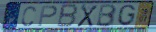B: (55, 3, 80, 28), (95, 3, 118, 28)
C: (20, 5, 37, 27)
G: (116, 4, 137, 27)
P: (37, 5, 58, 28)
X: (76, 4, 99, 28)
